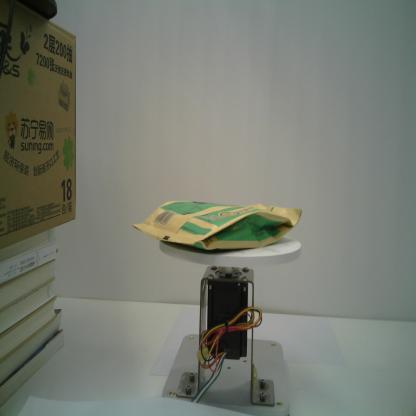Dried Food: (131, 199, 304, 254)
